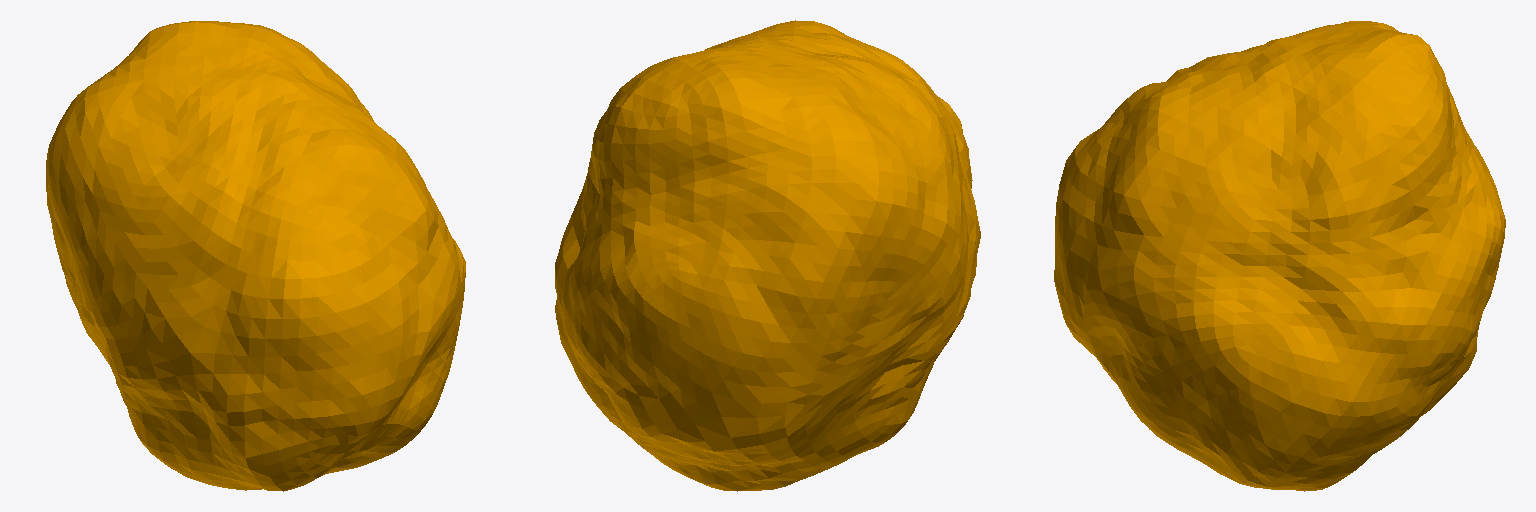
robot.urdf — rock:
<?xml version="1.0" ?>
<robot name="rock">
  <link name="rock">
    <inertial>
      <mass value="0.223"/>
      <origin rpy="0 0 0" xyz="0 0 0"/>
      <inertia ixx="0.000223" ixy="0" ixz="0" iyy="0.000223" iyz="0" izz="0.000223"/>
    </inertial>
    <collision name="rock_collision">
      <origin rpy="0 0 0" xyz="0 0 0"/>
      <geometry>
        <mesh filename="package://rocks/visual/228.dae" scale="1 1 1"/>
      </geometry>
    </collision>
    <visual name="rock_visual">
      <origin rpy="0 0 0" xyz="0 0 0"/>
      <geometry>
        <mesh filename="package://rocks/visual/228.dae" scale="1 1 1"/>
      </geometry>
    </visual>
  </link>
</robot>

--- Render facts (derived) ---
3 views of the same robot in one strip: view 1: azimuth 30°, elevation 25°; view 2: azimuth 150°, elevation 25°; view 3: azimuth 270°, elevation 25° (orthographic).
Model rock with 1 links and 0 joints (none), rooted at rock, posed every joint at zero.
Visible links, largest first — view 1: rock; view 2: rock; view 3: rock.
Boxes of the visible links, left/top/right/bottom form: rock: left=46, top=21, right=465, bottom=491; rock: left=555, top=20, right=980, bottom=491; rock: left=1054, top=21, right=1505, bottom=491.
Bounding box of the posed robot: 0.0766 × 0.0873 × 0.0902 m (x, y, z).
Meshes: 1 distinct files referenced, 1 mesh visuals loaded (1 Collada DAE).